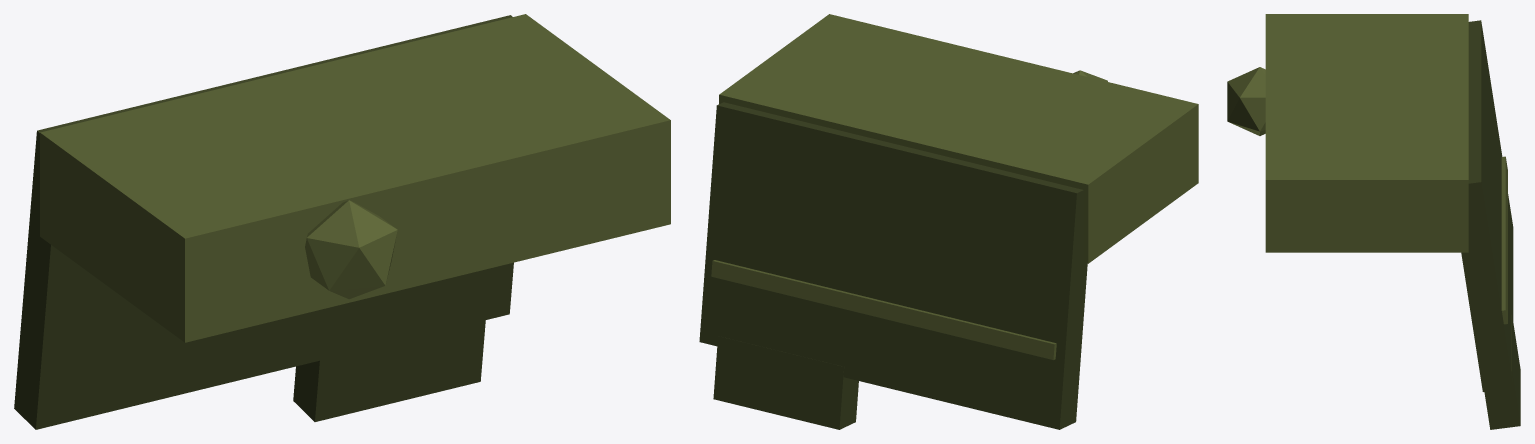
File: inf_v2_walker_lower_torso.fbx
3 views of the same model, side by side, from view 1: azimuth 30°, elevation 25°; view 2: azimuth 150°, elevation 25°; view 3: azimuth 270°, elevation 25° (orthographic). The views are drawn at different scales.
Visible parts, largest first — view 1: inf_v2_walker_lower_torso; view 2: inf_v2_walker_lower_torso; view 3: inf_v2_walker_lower_torso.
Part boxes in pixels (bbox=[...]): inf_v2_walker_lower_torso: bbox=[14, 14, 670, 429]; inf_v2_walker_lower_torso: bbox=[699, 14, 1198, 429]; inf_v2_walker_lower_torso: bbox=[1227, 14, 1520, 429].
Bounding box in the file's own units: 205 × 151 × 153.
